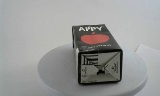appy: (66, 23, 115, 85)
